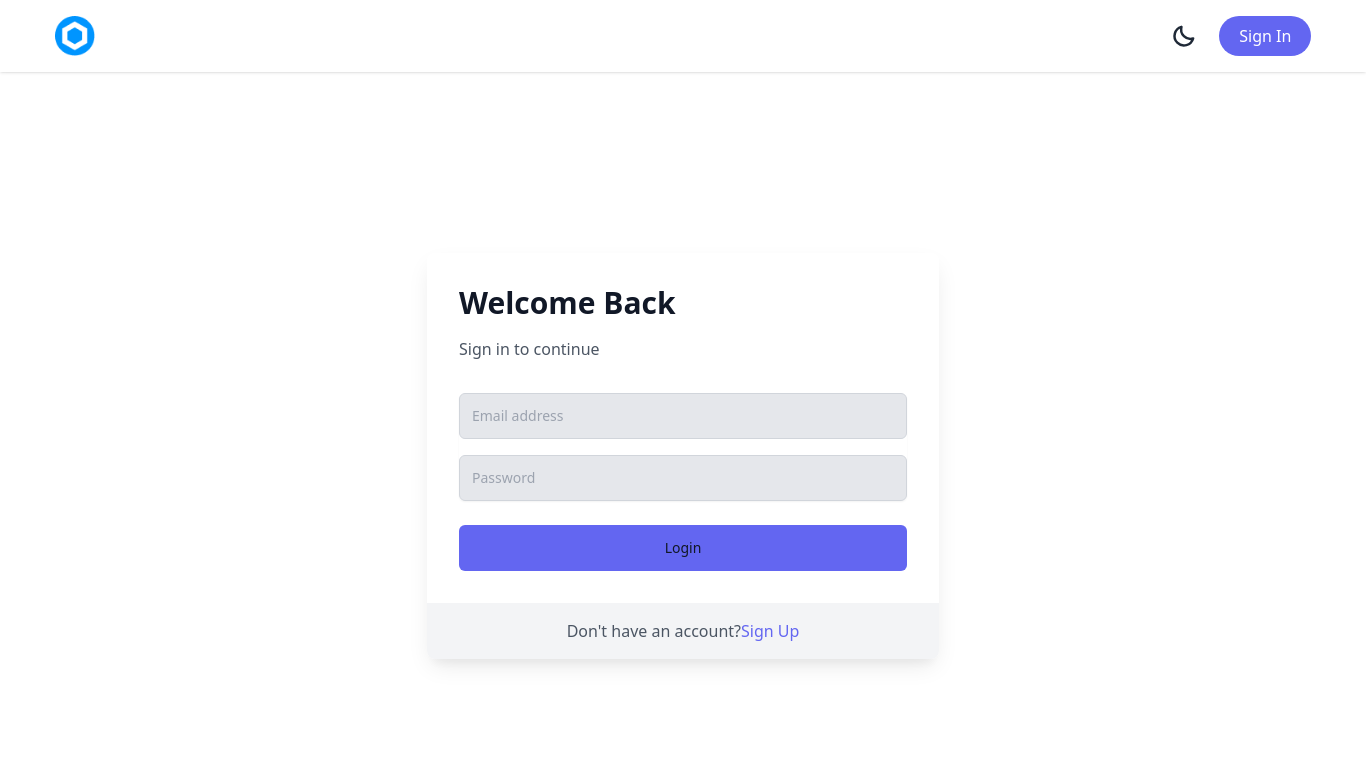
Test case: Login Page › should display an error for invalid credentials
In the field named "email": point(683, 416) [459, 393, 907, 439], type "wrong.email@reqres.in"
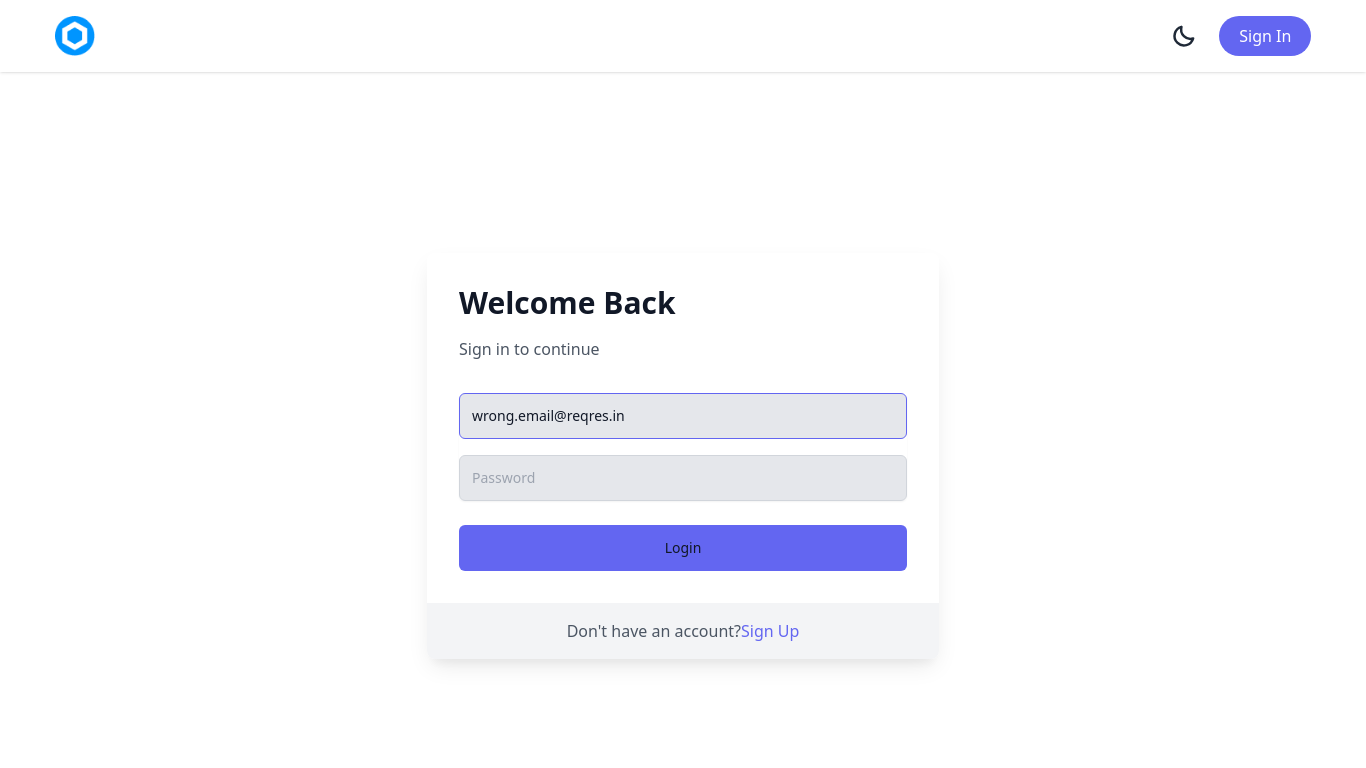
In the password field named "password": point(683, 478) [459, 455, 907, 501], type "wrongpassword"
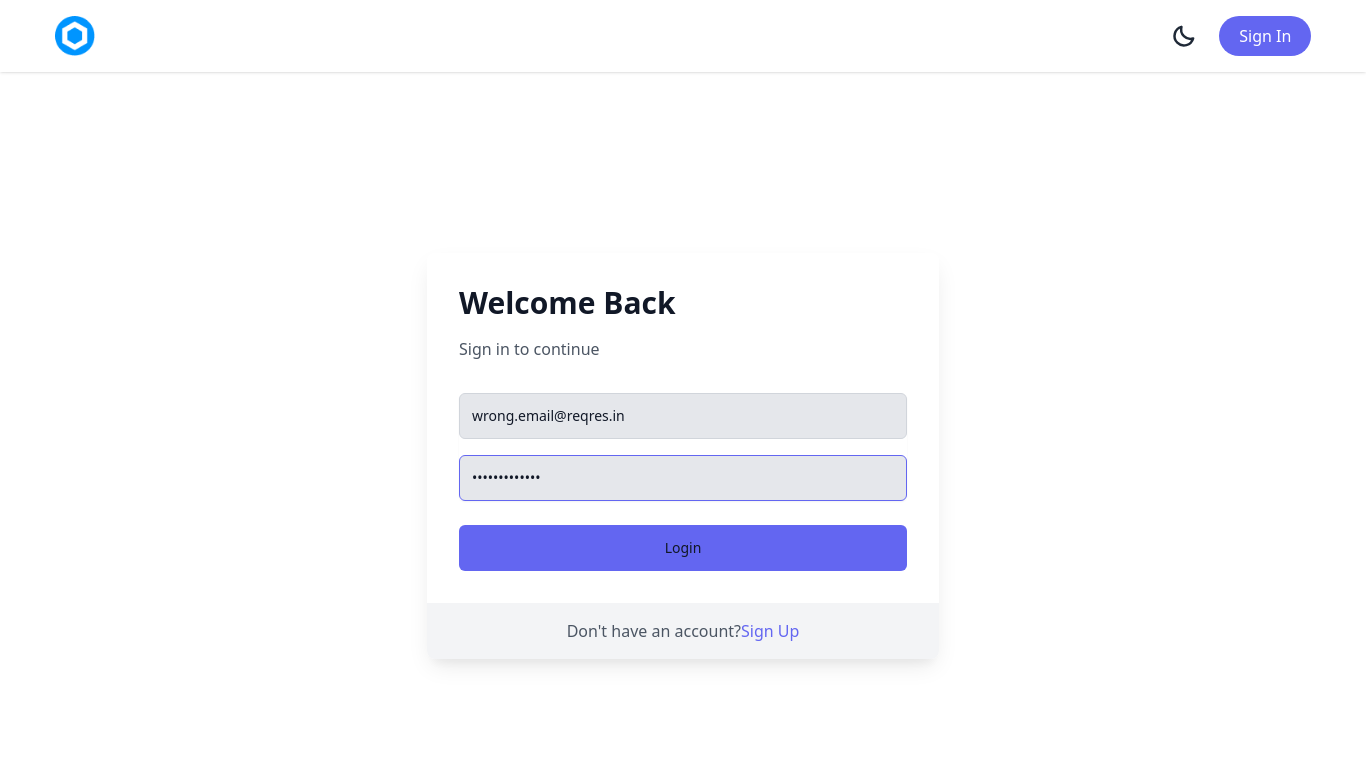
Click the submit button: point(683, 548) [459, 525, 907, 571]
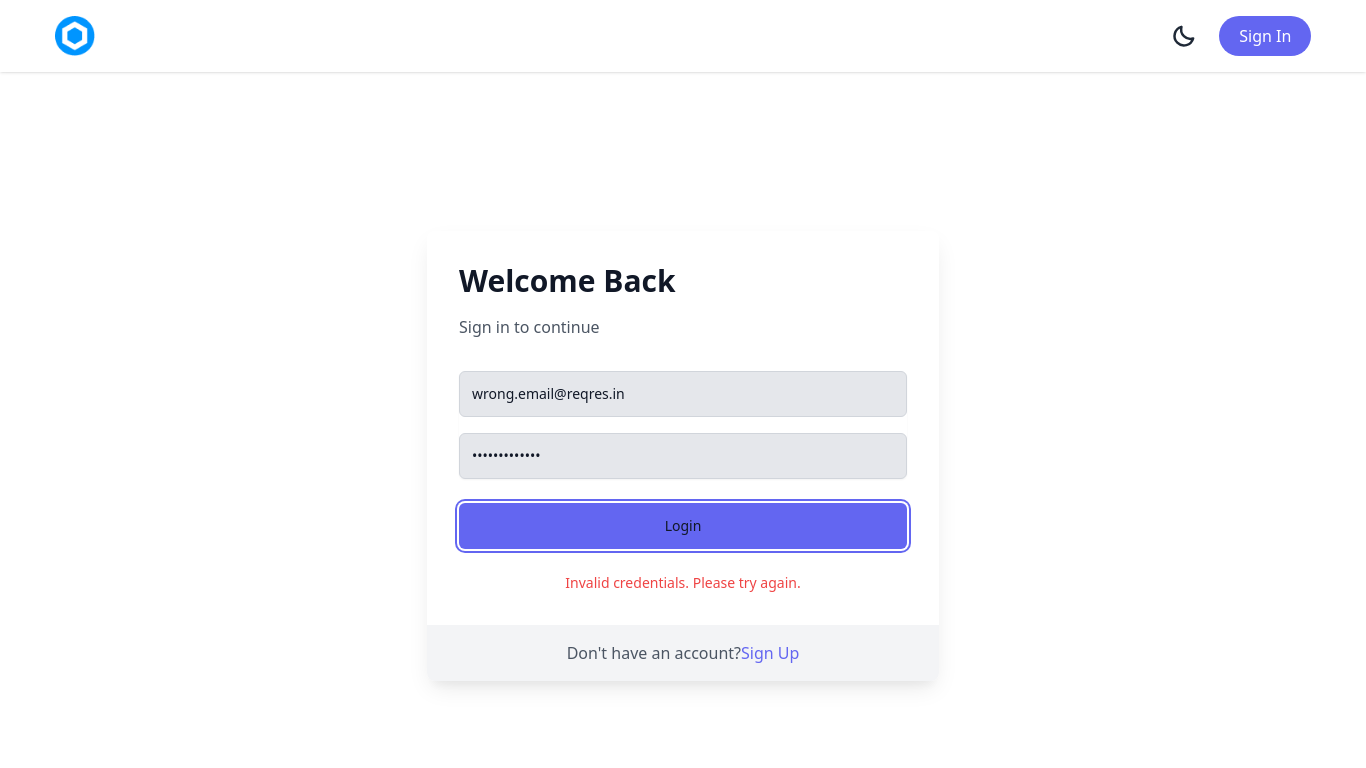
Expected: the text "Invalid credentials. Please try again." is shown, [565, 573, 801, 592]
